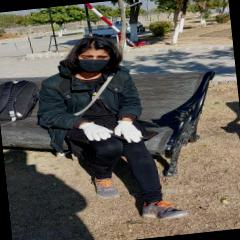gloved: (112, 118, 142, 145), (80, 121, 114, 142)
